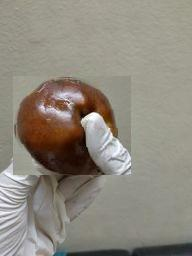Apple Rotten: (13, 76, 131, 175)
